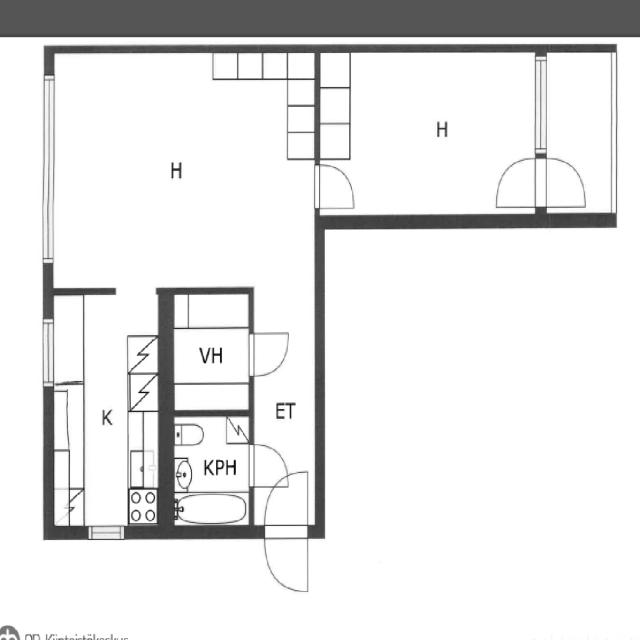door: (256, 472, 315, 598), (524, 152, 594, 205), (488, 152, 544, 210), (240, 324, 292, 382), (310, 154, 360, 213), (244, 438, 294, 495)
window: (29, 66, 64, 272), (532, 54, 552, 152), (37, 309, 59, 390), (82, 521, 130, 544)
zone: (49, 48, 312, 288), (318, 48, 542, 220), (47, 290, 161, 534), (168, 412, 254, 532), (169, 290, 252, 412)
